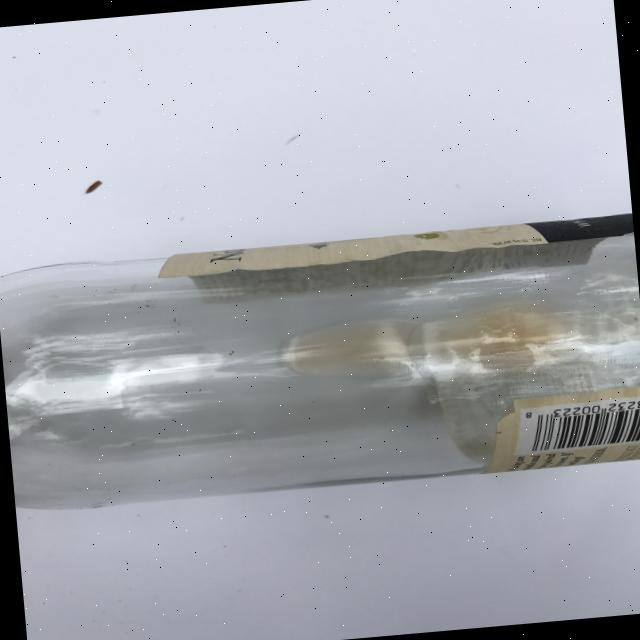glass: (0, 189, 640, 524)
